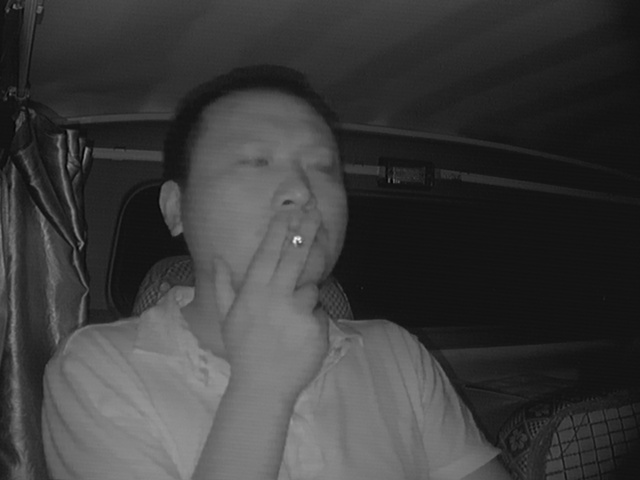hand: (218, 213, 338, 356)
